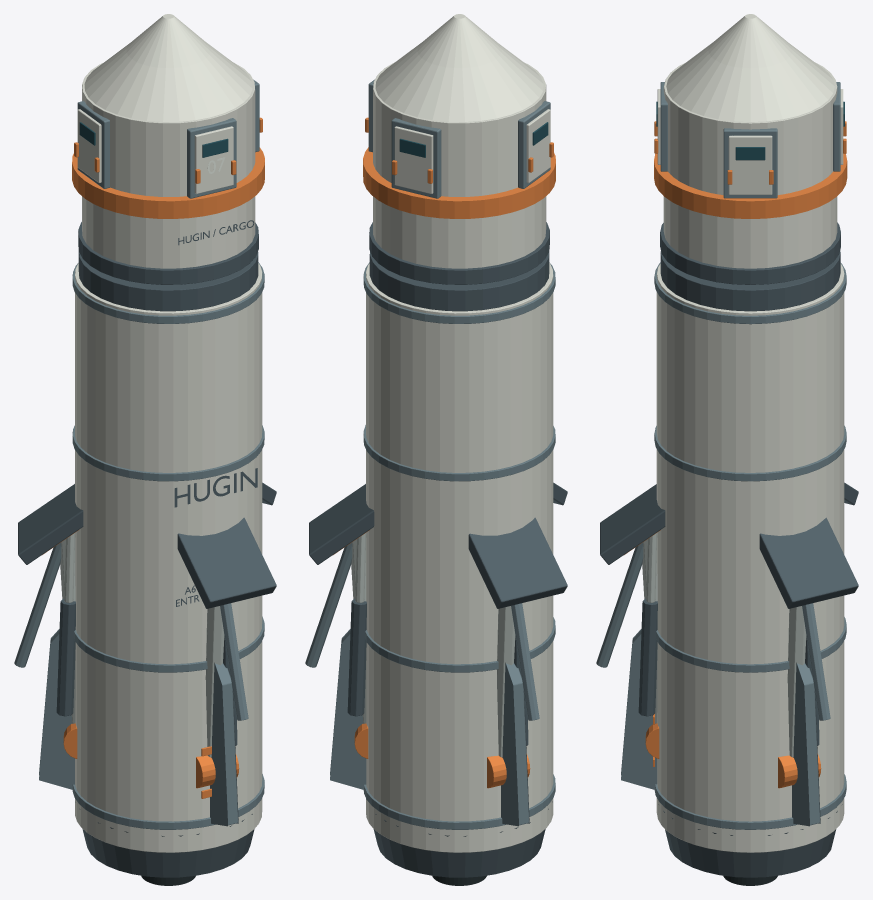
The model's file is hugin_stowed.glb.
3 renders of one model, left to right at view 1: azimuth 30°, elevation 25°; view 2: azimuth 150°, elevation 25°; view 3: azimuth 270°, elevation 25°, orthographic.
Visible parts, largest first — view 1: Booster propellant hull, Cargo pressure hull, Cargo ogive shoulder, FLAT_LANDING_FOOT_01, Cargo mating collar, Cargo capture collar, Booster engine skirt, Thermal descent fin, Cargo separation ring, Cargo nose, Thermal descent fin.002, FLAT_LANDING_FOOT_03 (+16 smaller); view 2: Booster propellant hull, Cargo pressure hull, Cargo ogive shoulder, FLAT_LANDING_FOOT_03, Cargo mating collar, Cargo capture collar, Booster engine skirt, Thermal descent fin.002, Cargo separation ring, Cargo nose, Thermal descent fin.001, FLAT_LANDING_FOOT_02 (+15 smaller); view 3: Booster propellant hull, Cargo pressure hull, Cargo ogive shoulder, FLAT_LANDING_FOOT_02, Cargo mating collar, Cargo capture collar, Booster engine skirt, Thermal descent fin.001, Cargo separation ring, Cargo nose, Thermal descent fin, FLAT_LANDING_FOOT_01 (+15 smaller).
Part boxes in pixels (<box>): Booster propellant hull: <box>75,263,262,852</box>; Cargo pressure hull: <box>82,62,255,268</box>; Cargo ogive shoulder: <box>84,42,252,121</box>; FLAT_LANDING_FOOT_01: <box>177,517,276,608</box>; Cargo mating collar: <box>78,251,258,311</box>; Cargo capture collar: <box>72,147,264,218</box>; Booster engine skirt: <box>75,801,254,877</box>; Thermal descent fin: <box>210,662,238,826</box>; Cargo separation ring: <box>78,222,258,284</box>; Cargo nose: <box>126,14,210,68</box>; Thermal descent fin.002: <box>39,629,74,789</box>; FLAT_LANDING_FOOT_03: <box>18,484,83,564</box>; Booster propellant hull: <box>366,263,553,852</box>; Cargo pressure hull: <box>373,62,546,268</box>; Cargo ogive shoulder: <box>375,42,543,121</box>; FLAT_LANDING_FOOT_03: <box>468,517,567,608</box>; Cargo mating collar: <box>369,251,549,311</box>; Cargo capture collar: <box>363,147,555,218</box>; Booster engine skirt: <box>366,798,552,877</box>; Thermal descent fin.002: <box>501,662,529,826</box>; Cargo separation ring: <box>369,222,549,284</box>; Cargo nose: <box>417,14,501,68</box>; Thermal descent fin.001: <box>330,629,366,789</box>; FLAT_LANDING_FOOT_02: <box>309,484,374,564</box>; Booster propellant hull: <box>656,263,844,852</box>; Cargo pressure hull: <box>663,62,837,268</box>; Cargo ogive shoulder: <box>666,43,834,121</box>; FLAT_LANDING_FOOT_02: <box>759,517,858,608</box>; Cargo mating collar: <box>660,251,840,311</box>; Cargo capture collar: <box>654,153,847,218</box>; Booster engine skirt: <box>658,804,842,877</box>; Thermal descent fin.001: <box>792,662,820,826</box>; Cargo separation ring: <box>660,222,840,284</box>; Cargo nose: <box>708,14,792,68</box>; Thermal descent fin: <box>621,629,657,789</box>; FLAT_LANDING_FOOT_01: <box>600,484,665,564</box>.
Size of the model in its own units: 6.36 by 19.82 by 5.6.
